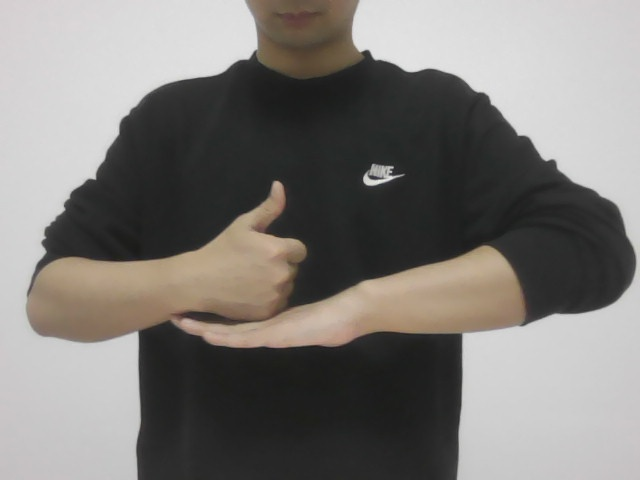new: (180, 173, 373, 359)
